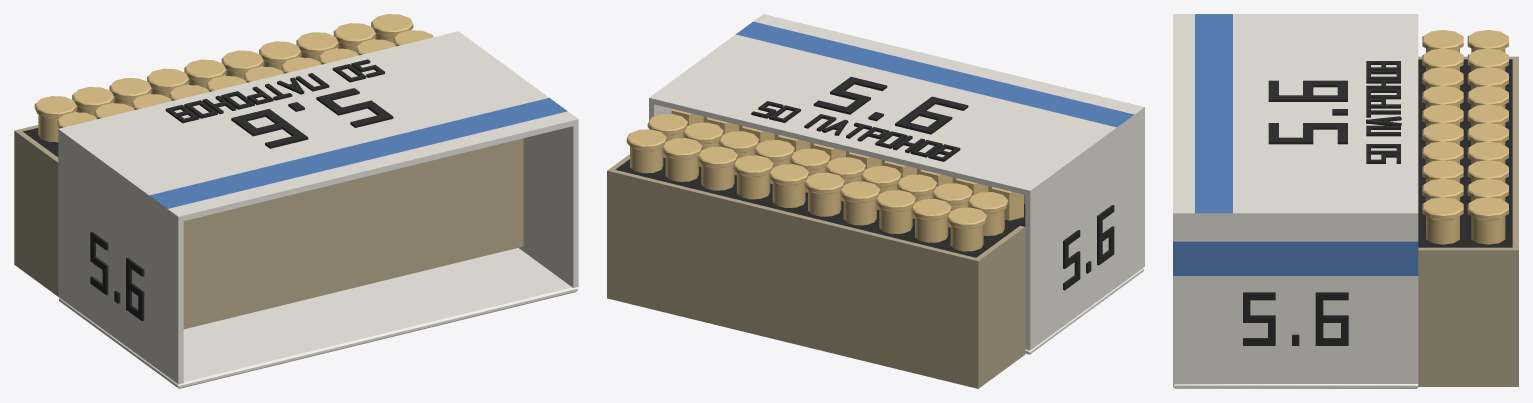
File: ammo_22lr.glb
3 renders of one model, left to right at view 1: azimuth 30°, elevation 25°; view 2: azimuth 150°, elevation 25°; view 3: azimuth 270°, elevation 25°, orthographic. The views are drawn at different scales.
Visible parts, largest first — view 1: body; view 2: body; view 3: body.
Boxes of the visible parts, x1=… form: body: x1=14, y1=14, x2=578, y2=388; body: x1=607, y1=14, x2=1144, y2=388; body: x1=1173, y1=14, x2=1518, y2=388.
Bounding box in the file's own units: 0.0758 × 0.0314 × 0.055.
